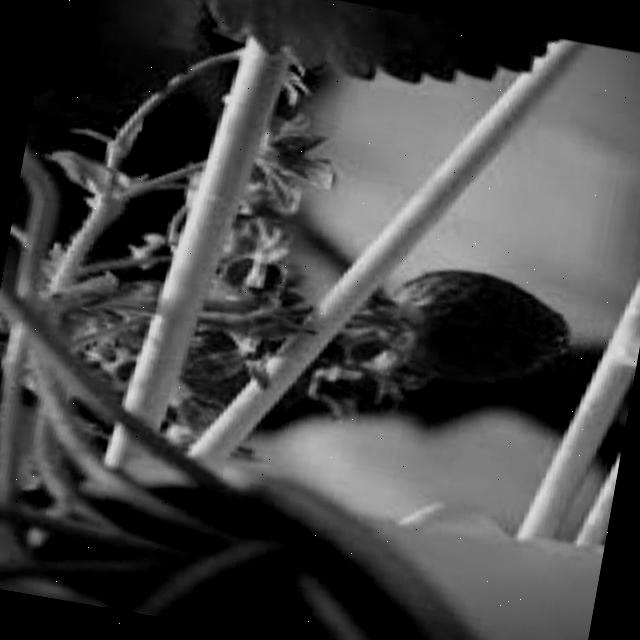ripe: (380, 257, 582, 401)
